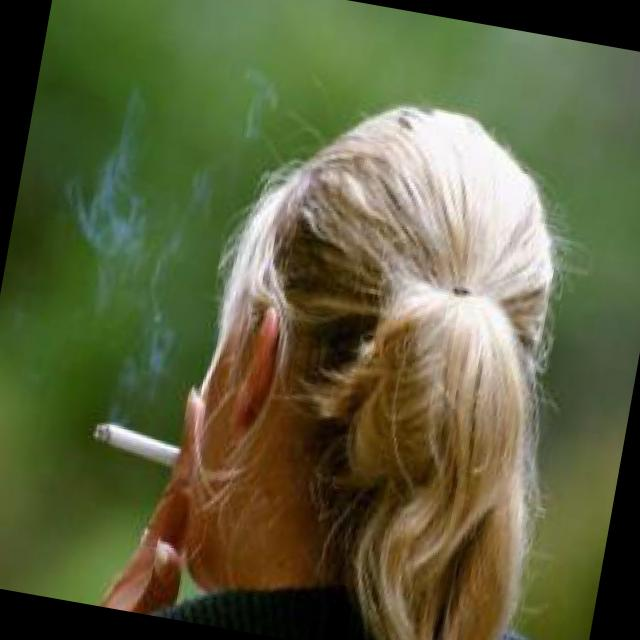smoke: (18, 62, 227, 438)
